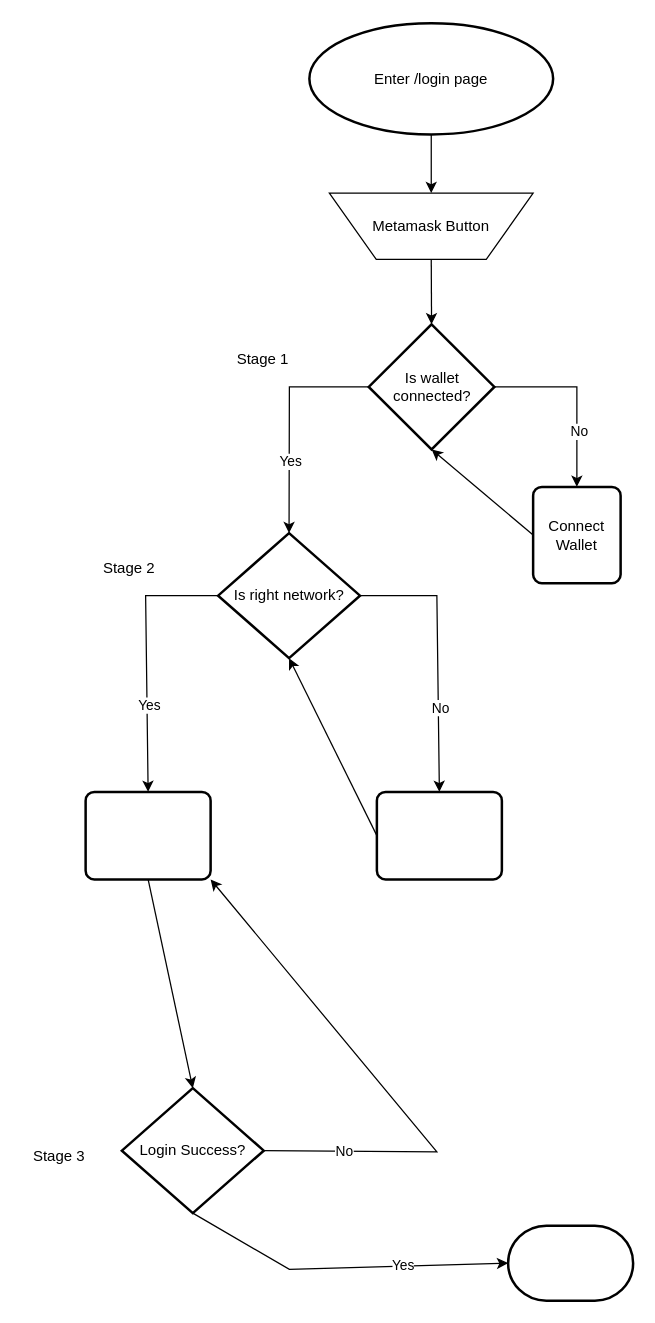
The diagram is 655 pixels wide and 1323 high, and some of its shapes have lost their labels. The shapes that lost their labels are listed below. From the top down, each one's centre as x and y in pixels, then its label:
At point 147,835: "Sign Message Signature".
At point 438,835: "Please Switch Network".
At point 570,1262: "Enter App".
